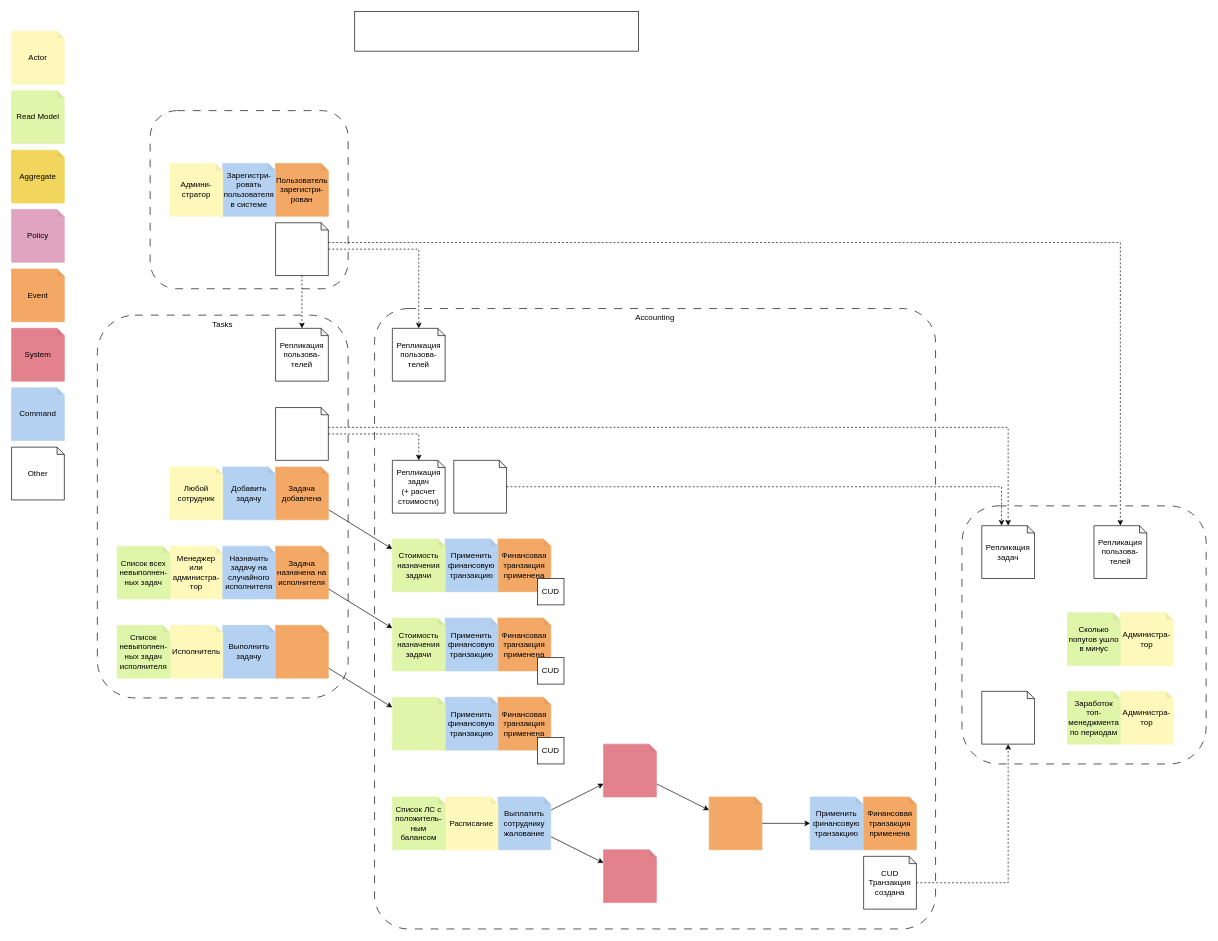
This 1218x941 diagram has some shape labels left out. Each missing label, with the box of its shape:
Analytics: (961, 505, 1206, 764)
Auth: (149, 110, 348, 289)
CUD Задача изменена: (453, 460, 507, 513)
CUD Задача создана: (275, 407, 328, 460)
CUD Пользова-тель создан: (275, 222, 328, 276)
Жалование выплачено: (709, 796, 762, 850)
Задача выполнена: (275, 625, 328, 678)
Исполнитель = не менеджер & не администратор & не бухгалтер: (354, 11, 639, 51)
Платежная система: (603, 743, 656, 797)
Почтовый сервер: (603, 849, 656, 903)
Репликация транзакций: (981, 691, 1035, 744)
Стоимость исполнения задачи: (392, 697, 445, 750)
